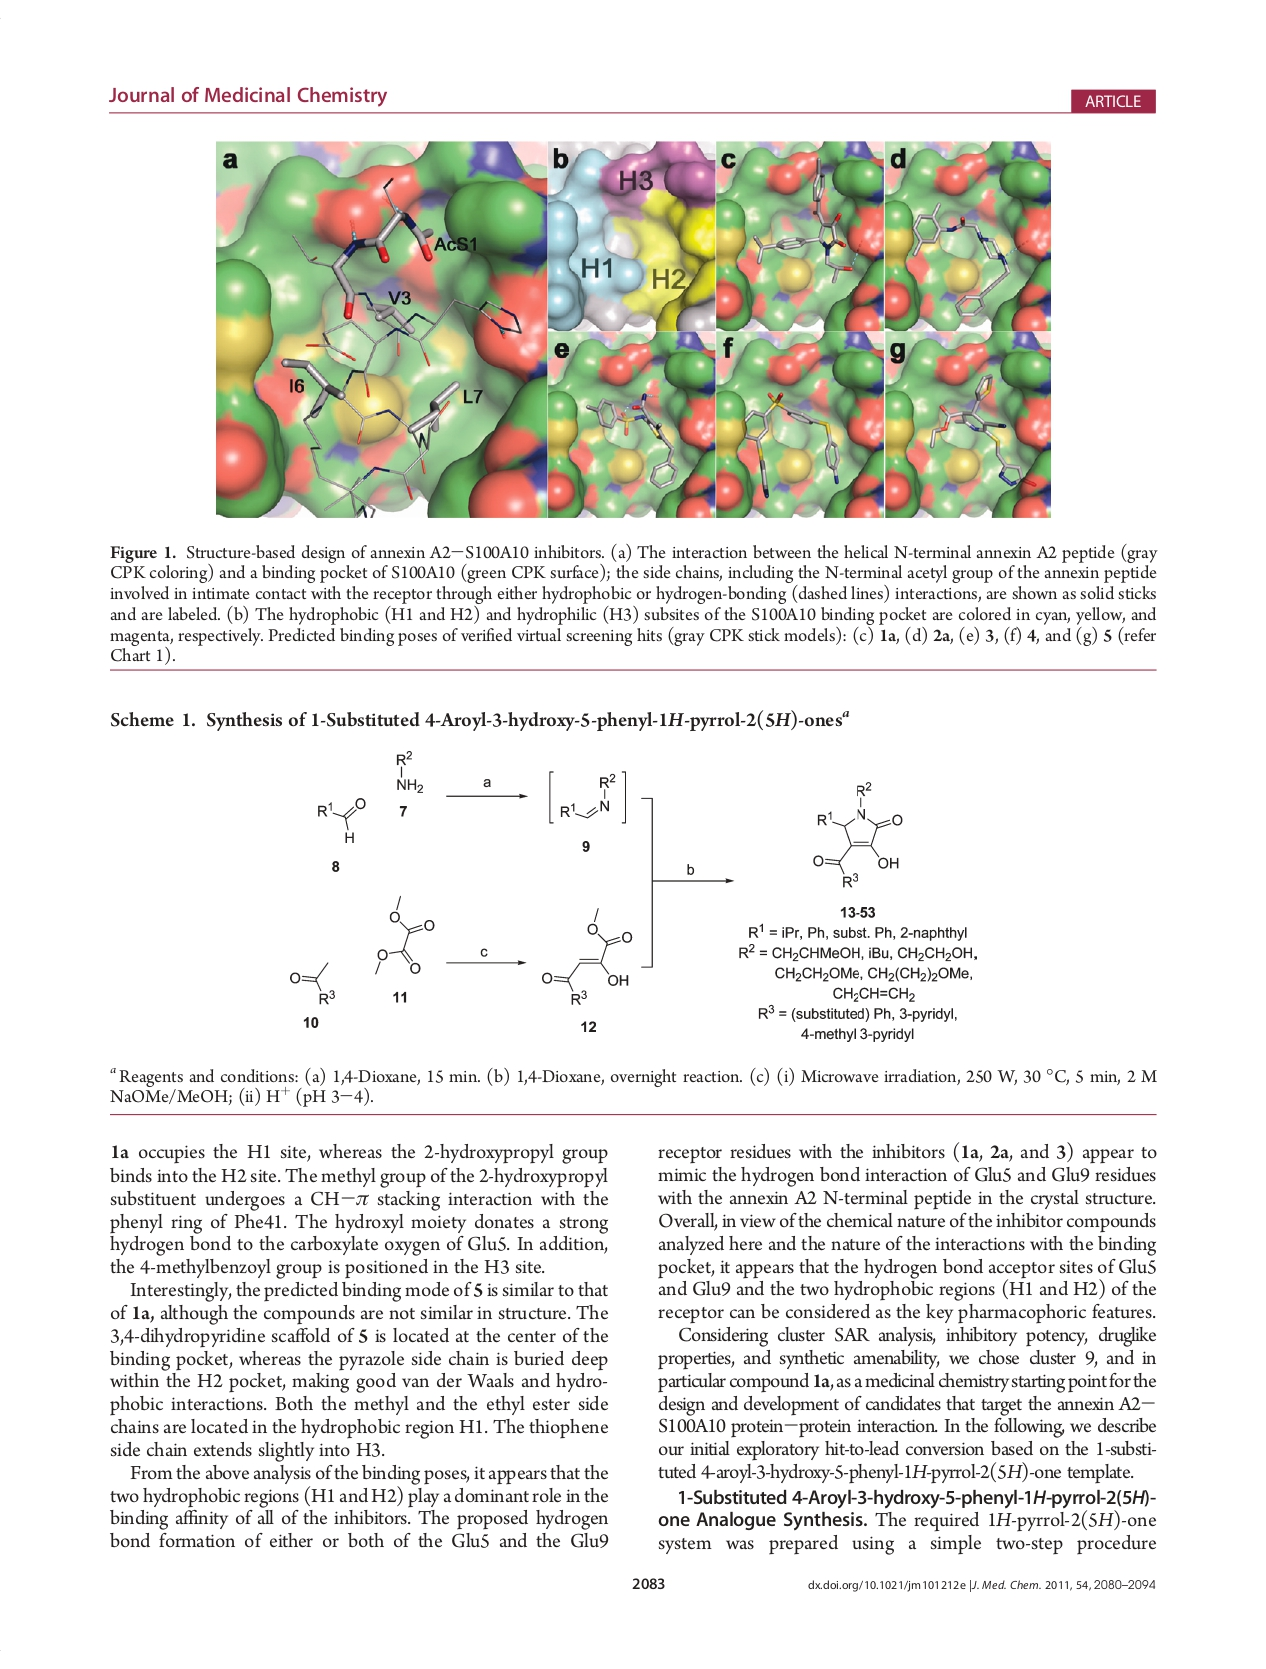exist_molecular: (805, 770, 910, 892), (541, 907, 641, 1011), (367, 892, 439, 984), (279, 951, 344, 1009), (556, 771, 621, 826), (313, 790, 367, 847), (388, 735, 430, 798)
